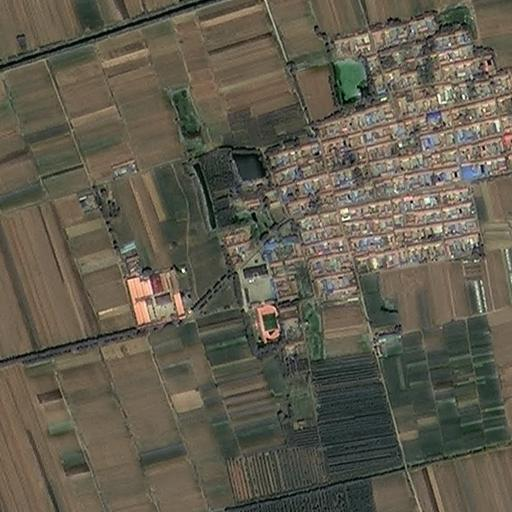school: (240, 248, 282, 348)
